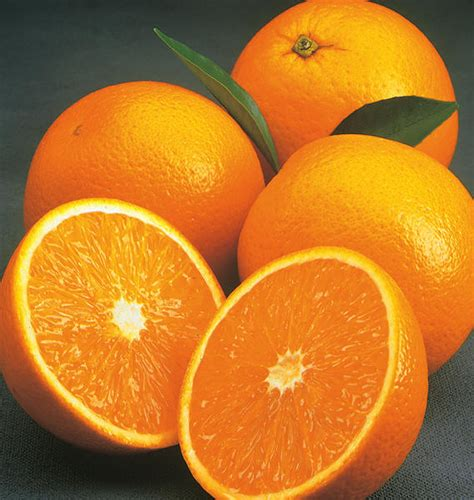orange: (236, 133, 474, 372), (21, 78, 267, 239), (228, 1, 464, 164)
